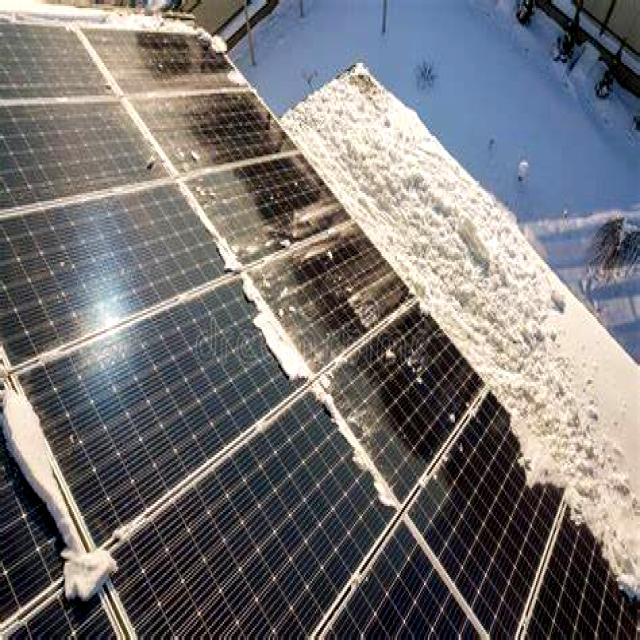panel: (184, 170, 316, 414), (0, 388, 119, 600), (11, 470, 118, 618), (500, 412, 596, 542), (326, 356, 398, 512), (250, 252, 322, 396), (420, 310, 496, 407), (580, 494, 640, 612), (509, 423, 572, 530), (284, 123, 342, 214), (358, 212, 413, 304), (204, 27, 254, 94), (212, 213, 250, 282)
